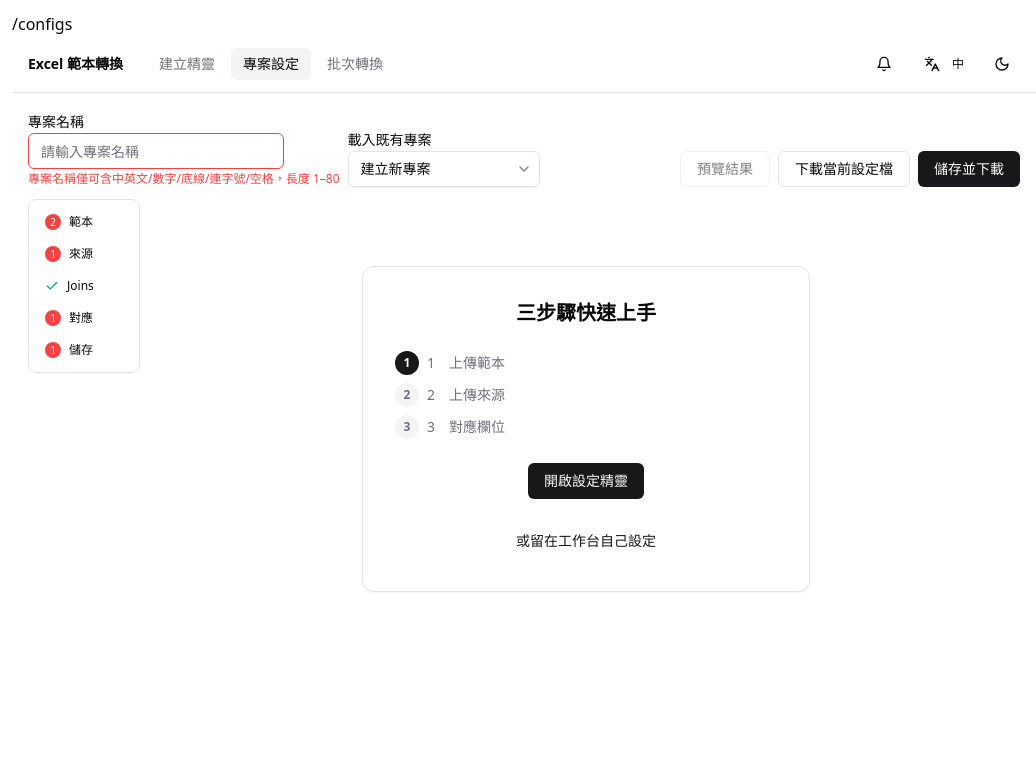
Test: App wizard entry points (REQ-09) › topNavTabNavigatesToWizard
The image size is (1036, 780).
Click the link "建立精靈". click: coordinates (187, 64)
box: [159,54,215,73]
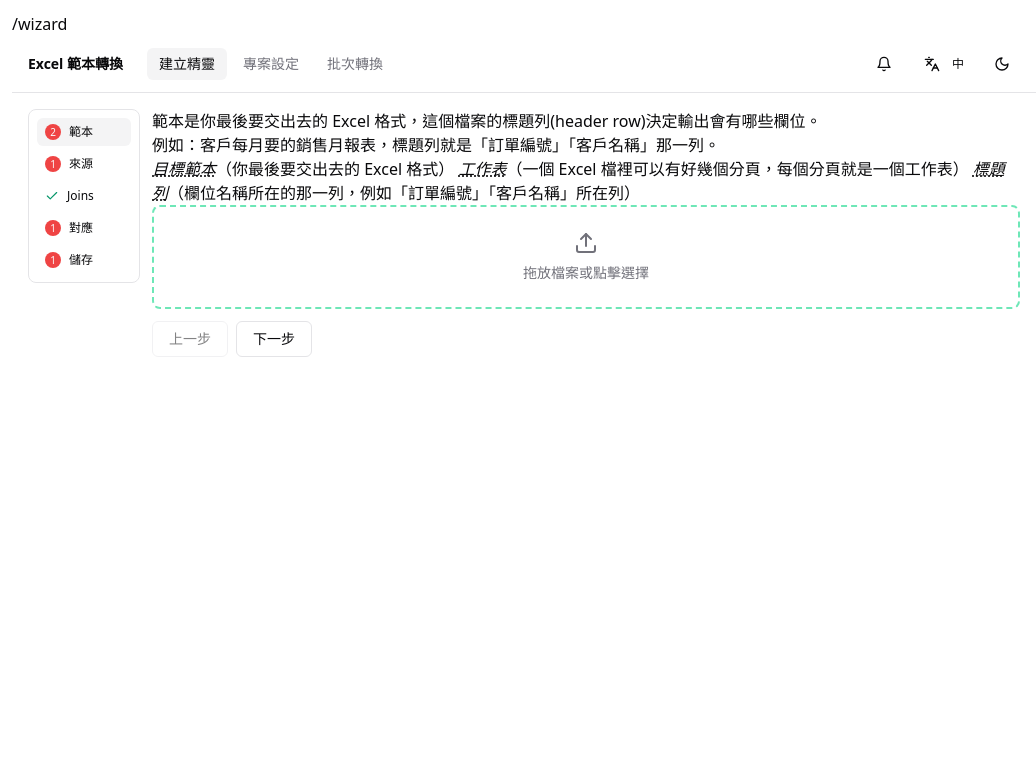
expect the text with test id "location-probe" reads "/wizard": met, box [12,13,67,35]
expect the button "下一步" is shown: met, box [236,321,312,357]
